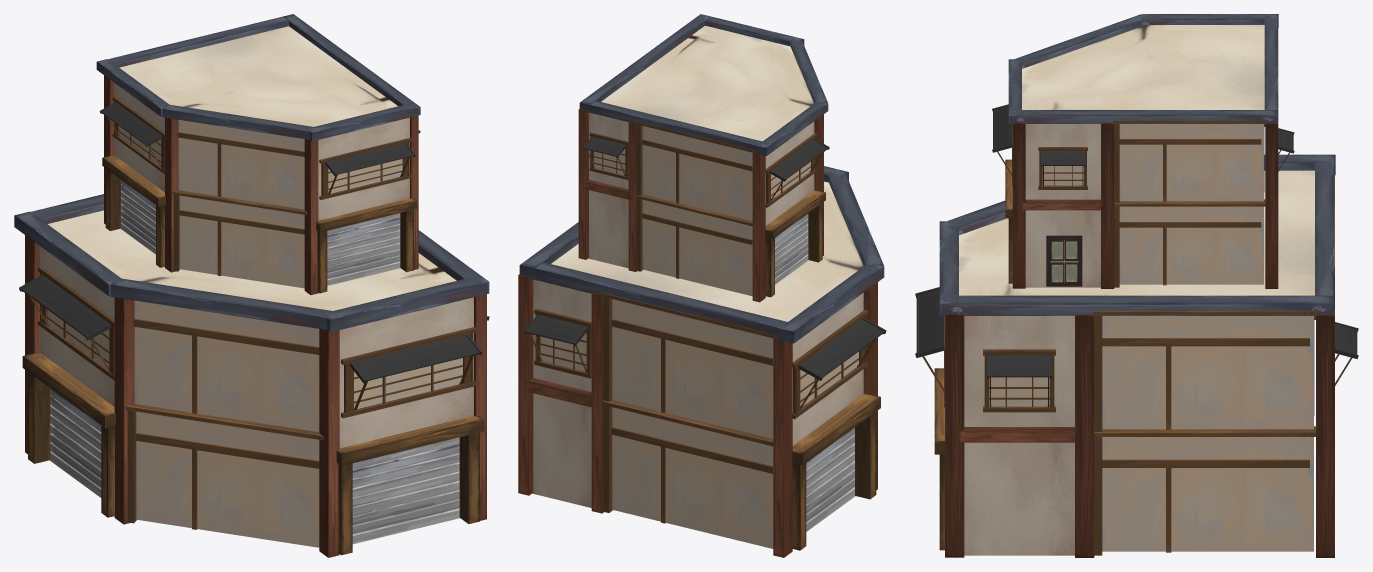
Rendered from Nha 17.fbx.
3 views of the same model, side by side, from view 1: azimuth 30°, elevation 25°; view 2: azimuth 150°, elevation 25°; view 3: azimuth 270°, elevation 25° (orthographic). The views are drawn at different scales.
Visible parts, largest first — view 1: Cylinder.010; view 2: Cylinder.010; view 3: Cylinder.010.
Boxes of the visible parts, box(x1,y1,x2,y2) form: Cylinder.010: box(14, 14, 489, 557); Cylinder.010: box(518, 14, 886, 557); Cylinder.010: box(915, 14, 1358, 557).
Size of the model in its own units: 1329 by 1573 by 1490.
